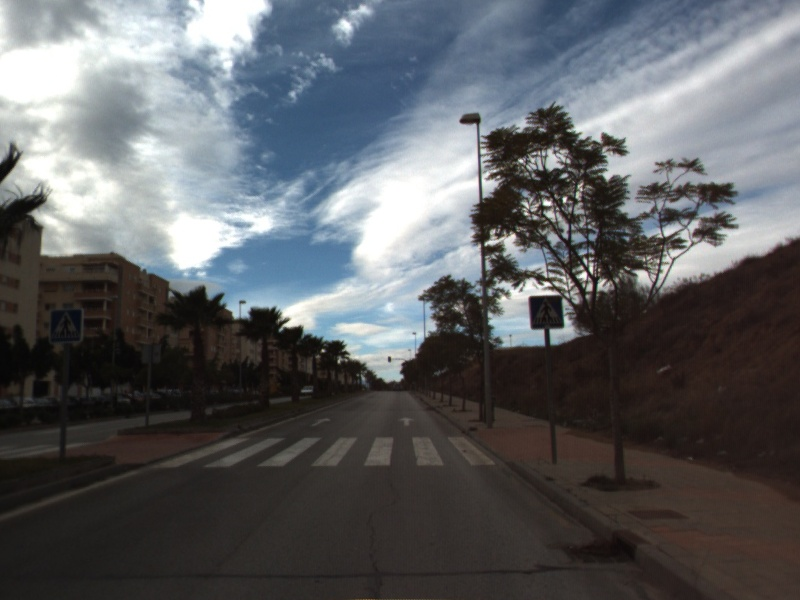STRAIGHT: (309, 416, 332, 428), (397, 415, 416, 428)
